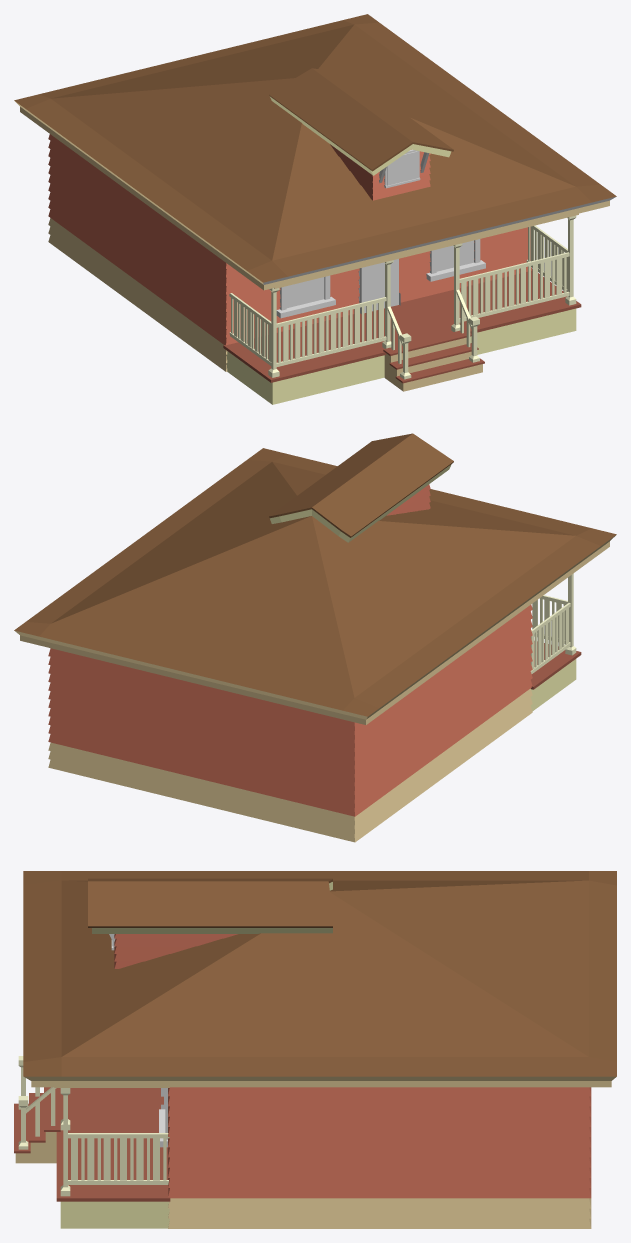
File: House 6.fbx
3 renders of one model, top to bottom at view 1: azimuth 30°, elevation 25°; view 2: azimuth 150°, elevation 25°; view 3: azimuth 270°, elevation 25°, orthographic. The views are drawn at different scales.
Parts seen in each view (by area): view 1: Cube.119, Cube.118, Cube.128, Cube.121, Cube.120, Cube.124, Cube.123, CTRL_Hole.021, CTRL_Hole.018, Cube.117, CTRL_Hole.020, CTRL_Hole.019 (+5 smaller); view 2: Cube.119, Cube.128, Cube.118, Cube.123, Cube.120; view 3: Cube.119, Cube.128, Cube.118, Cube.123, Cube.124, Cube.122, Cube.120, Cube.125, Cube.126.
Part boxes in pixels (x1,y1,x2,y2): Cube.119: (14,14,616,371); Cube.118: (223,270,581,404); Cube.128: (269,68,453,200); Cube.121: (278,257,566,362); Cube.120: (268,215,576,377); Cube.124: (383,329,484,391); Cube.123: (231,227,567,361); CTRL_Hole.021: (359,259,398,313); CTRL_Hole.018: (286,277,324,308); Cube.117: (426,239,485,281); CTRL_Hole.020: (387,151,417,185); CTRL_Hole.019: (436,240,473,271); Cube.119: (14,448,616,842); Cube.128: (269,433,453,542); Cube.118: (530,641,581,711); Cube.123: (530,608,568,669); Cube.120: (534,573,576,655); Cube.119: (23,871,616,1228); Cube.128: (88,878,332,968); Cube.118: (56,1088,170,1228); Cube.123: (71,1138,166,1180); Cube.124: (14,1087,60,1163); Cube.122: (68,1133,169,1184); Cube.120: (60,1088,70,1196); Cube.125: (18,1056,28,1149); Cube.126: (26,1087,56,1136).
Bounding box in the file's own units: 546 × 328 × 677.
